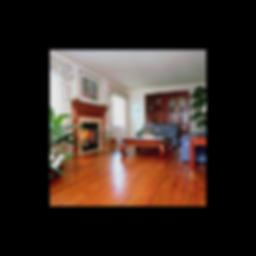Matera: (50, 109, 73, 181)
